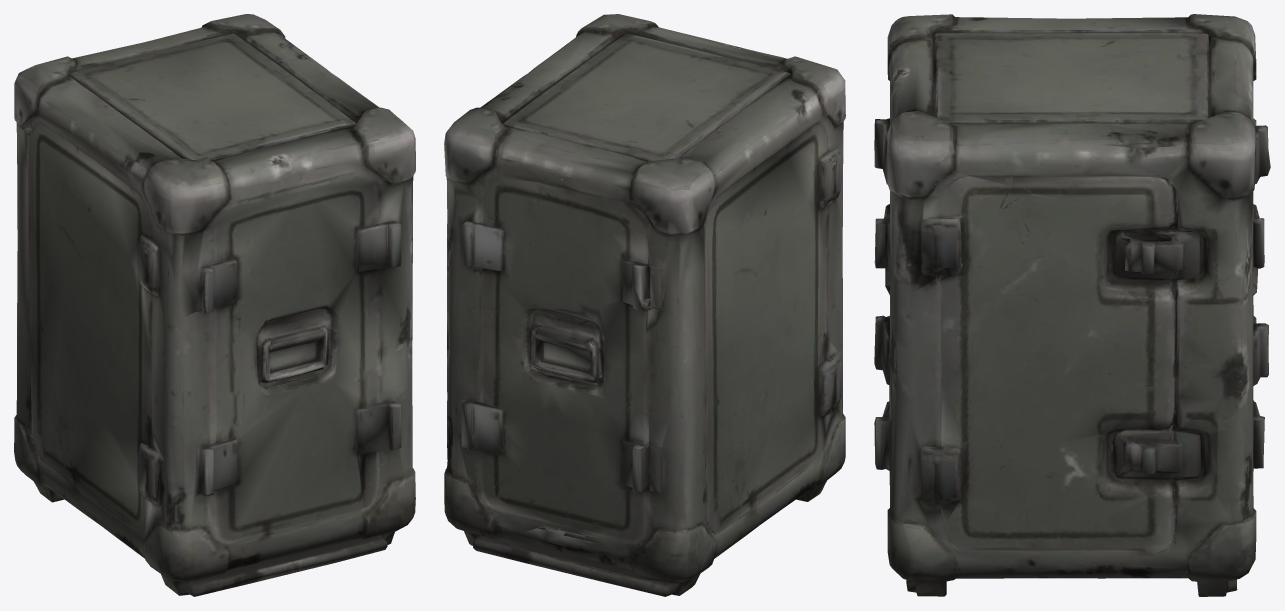
File: locker-trellis.glb
The picture shows the model from 3 angles, left to right: view 1: azimuth 30°, elevation 25°; view 2: azimuth 150°, elevation 25°; view 3: azimuth 270°, elevation 25°; orthographic projection. The views are drawn at different scales.
Size of the model in its own units: 0.6373 by 1 by 0.7673.
1 material, 1 textured.
